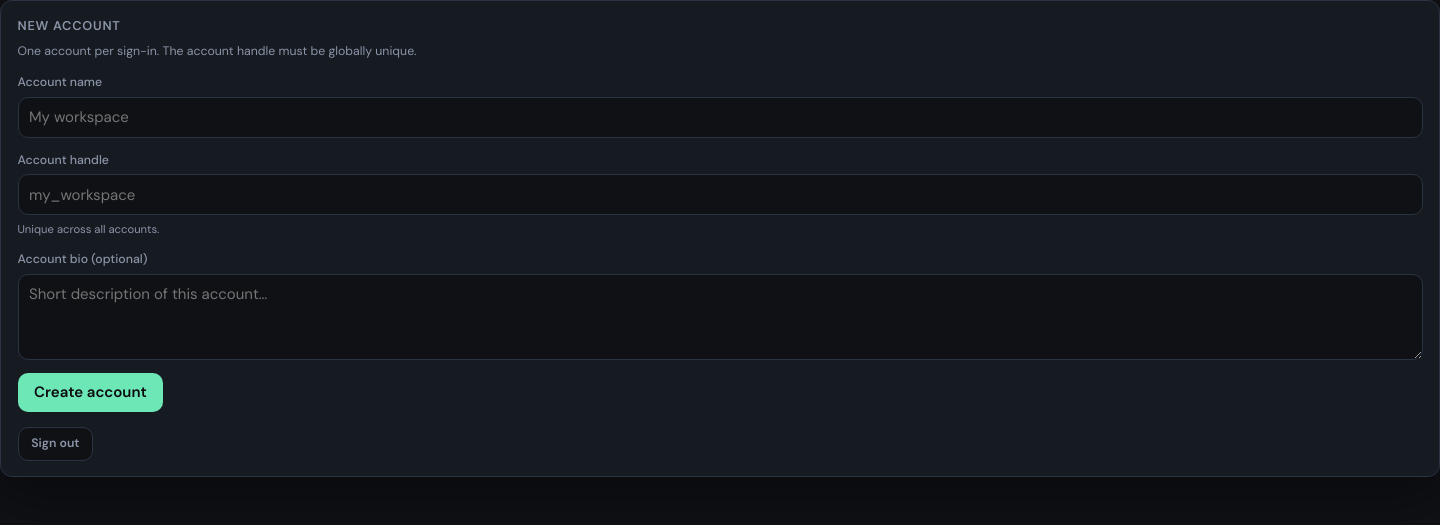
Test: AccountCreateForm › shows API error from response body
In the field labelled "Account name": (720, 117) [18, 97, 1422, 138], type "X"
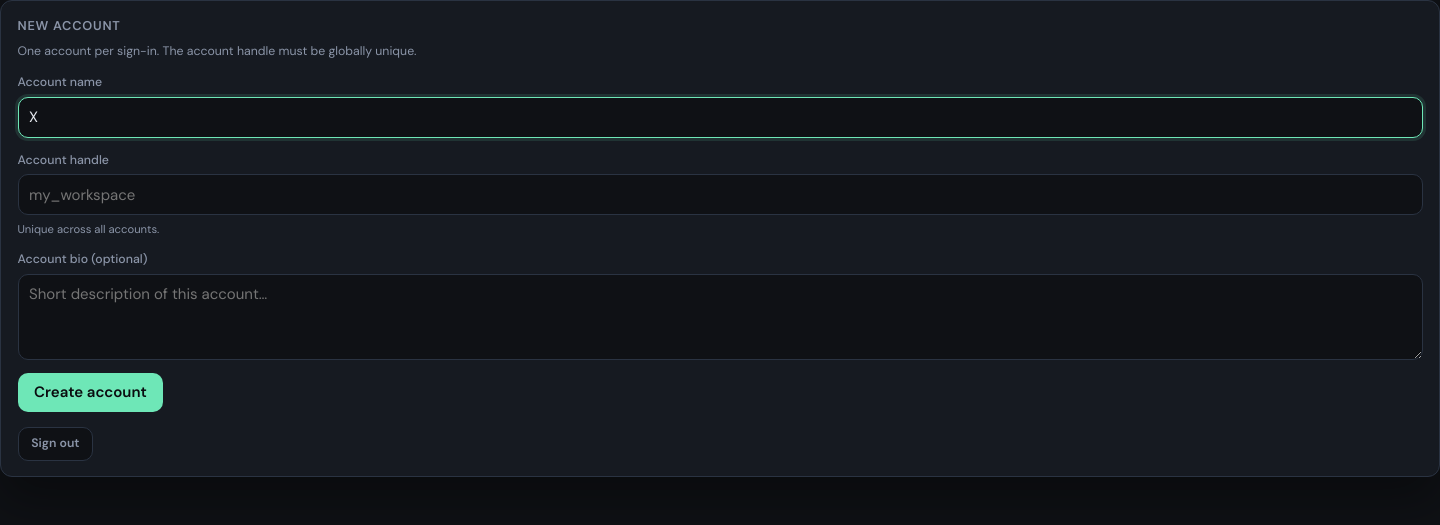
In the field labelled "Account handle Unique across all accounts.": (720, 195) [18, 174, 1422, 215], type "taken"
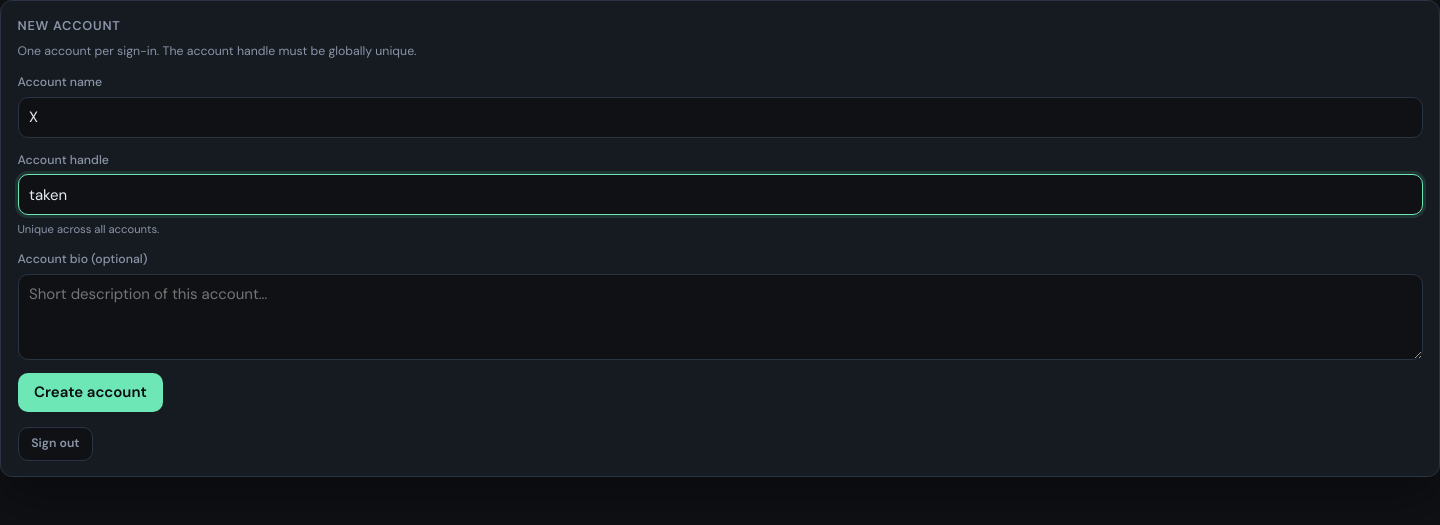
Click the button "Create account": (90, 392) [18, 373, 163, 412]
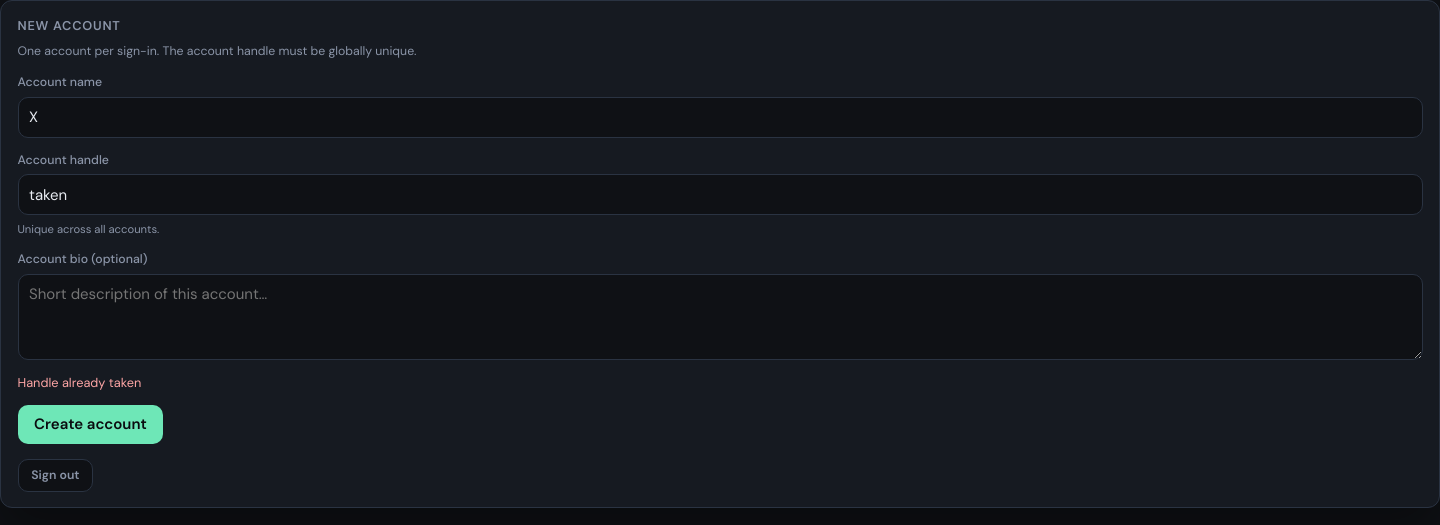
Check: the message reads "Handle already taken", box [18, 374, 141, 391]
